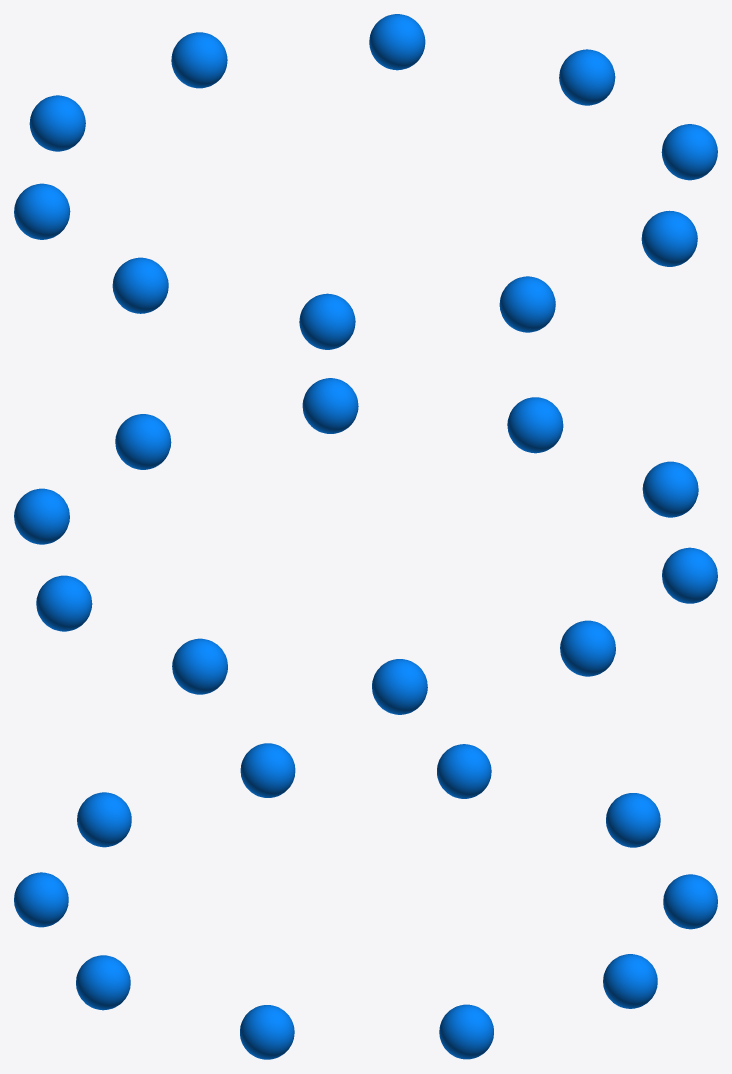
The picture shows the model from 3 angles, top to bottom: view 1: azimuth 30°, elevation 25°; view 2: azimuth 150°, elevation 25°; view 3: azimuth 270°, elevation 25°; orthographic projection. The views are drawn at different scales.
Parts seen in each view (by area): view 1: Sphere047; view 2: Sphere047; view 3: Sphere047.
Part boxes in pixels (x1,y1,x2,y2): Sphere047: (14, 14, 717, 349); Sphere047: (14, 378, 717, 714); Sphere047: (14, 743, 717, 1059).
Size of the model in its own units: 101 by 8.22 by 105.
